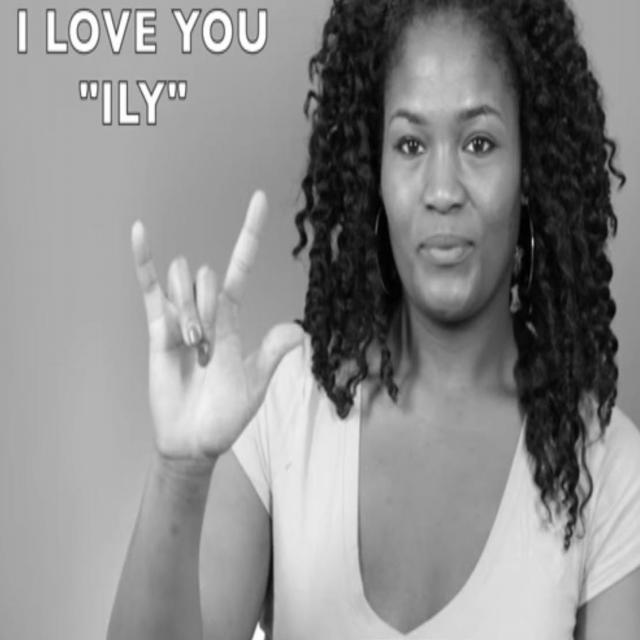i love you: (127, 181, 310, 468)
